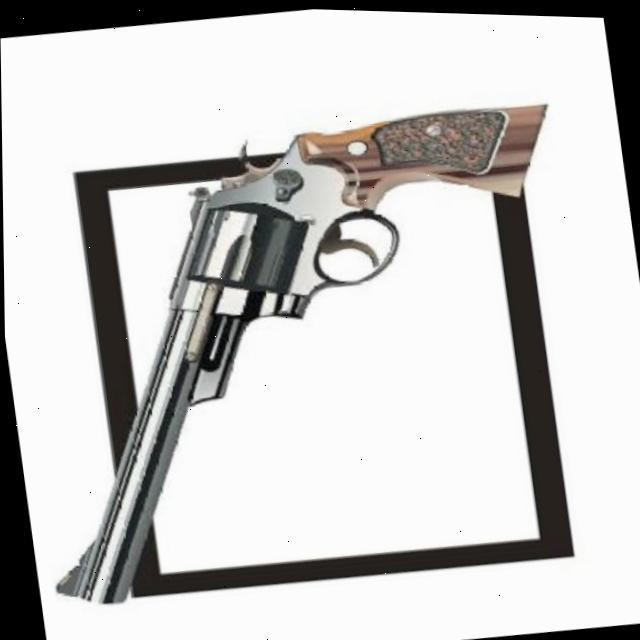gun: (1, 82, 614, 622)
